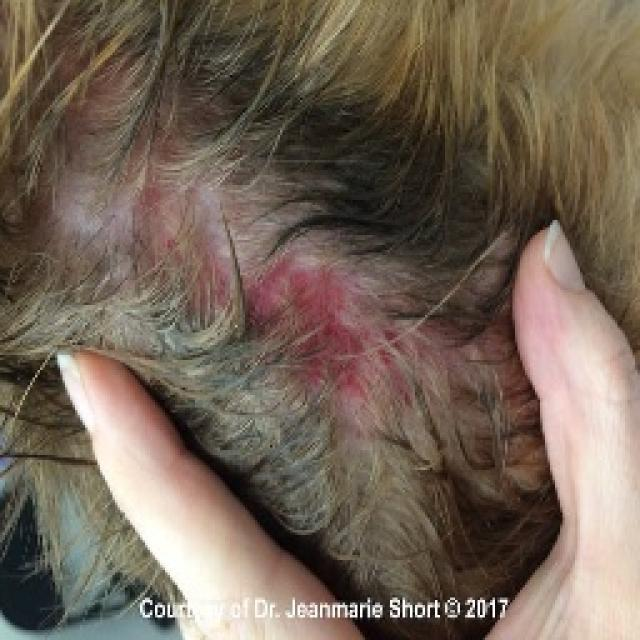hotspot: (263, 264, 387, 394)
